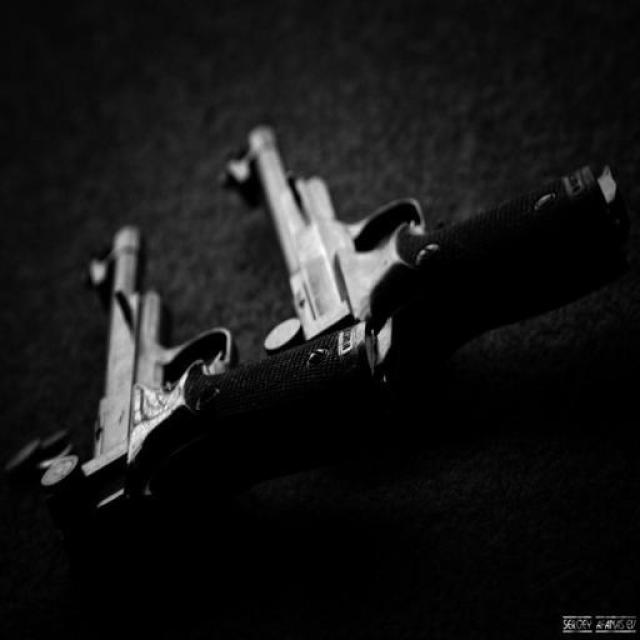pistol: (229, 106, 623, 407), (34, 224, 388, 516)
